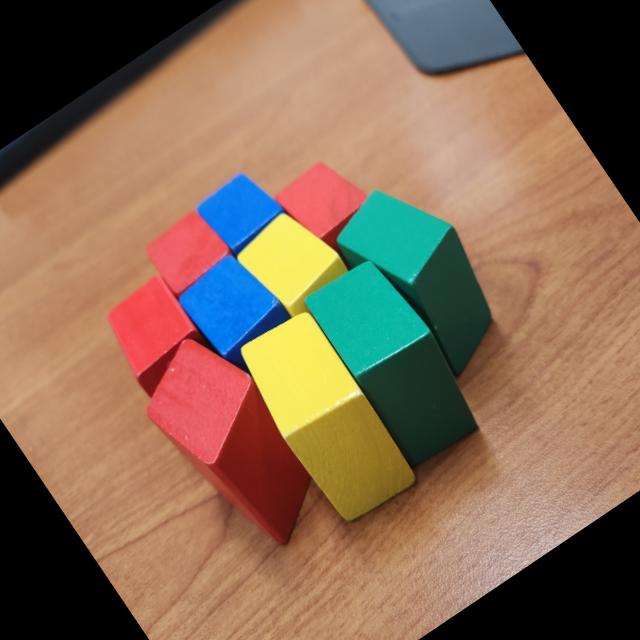blue: (172, 244, 308, 388), (192, 162, 294, 264)
green: (318, 162, 528, 396), (298, 247, 494, 474)
red: (122, 319, 342, 571), (92, 270, 218, 402), (270, 148, 386, 265), (139, 204, 239, 300)
yellow: (228, 303, 422, 529), (229, 199, 357, 328)
